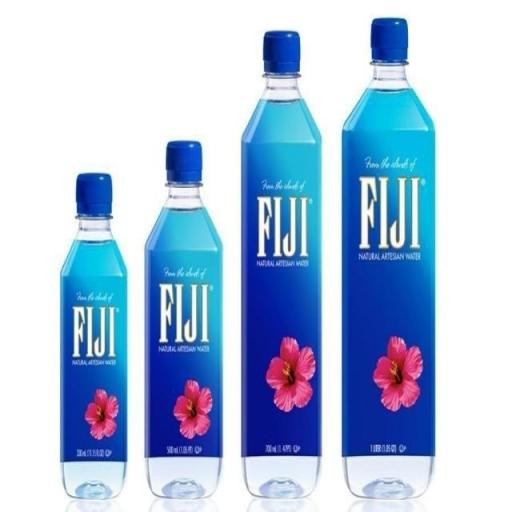plastic: (338, 13, 440, 505), (235, 23, 327, 508), (142, 133, 228, 502), (56, 168, 132, 498)
